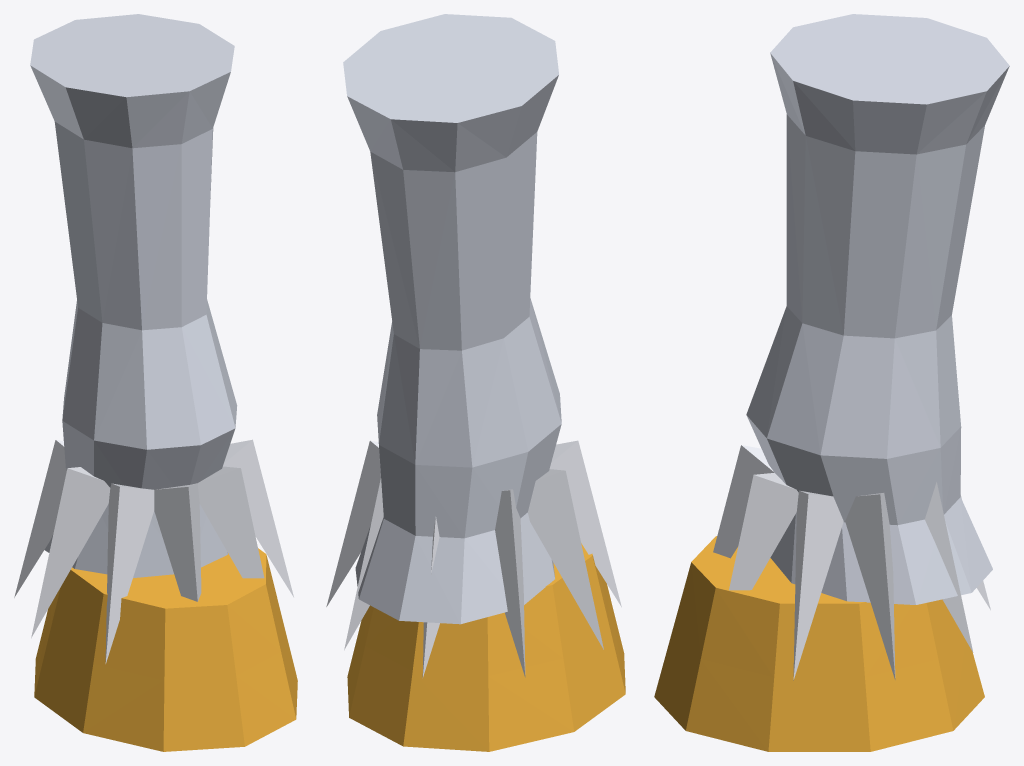
Rendered from BossSteedForeShin.obj.
3 views of the same model, side by side, from view 1: azimuth 30°, elevation 25°; view 2: azimuth 150°, elevation 25°; view 3: azimuth 270°, elevation 25° (orthographic). The views are drawn at different scales.
Visible parts, largest first — view 1: BossSteedForeShin; view 2: BossSteedForeShin; view 3: BossSteedForeShin.
Boxes of the visible parts, x1,y1,x2,y2 form: BossSteedForeShin: [14, 14, 297, 751]; BossSteedForeShin: [326, 14, 625, 751]; BossSteedForeShin: [654, 14, 1009, 751].
Bounding box in the file's own units: 0.6983 × 1.72 × 0.8591.
